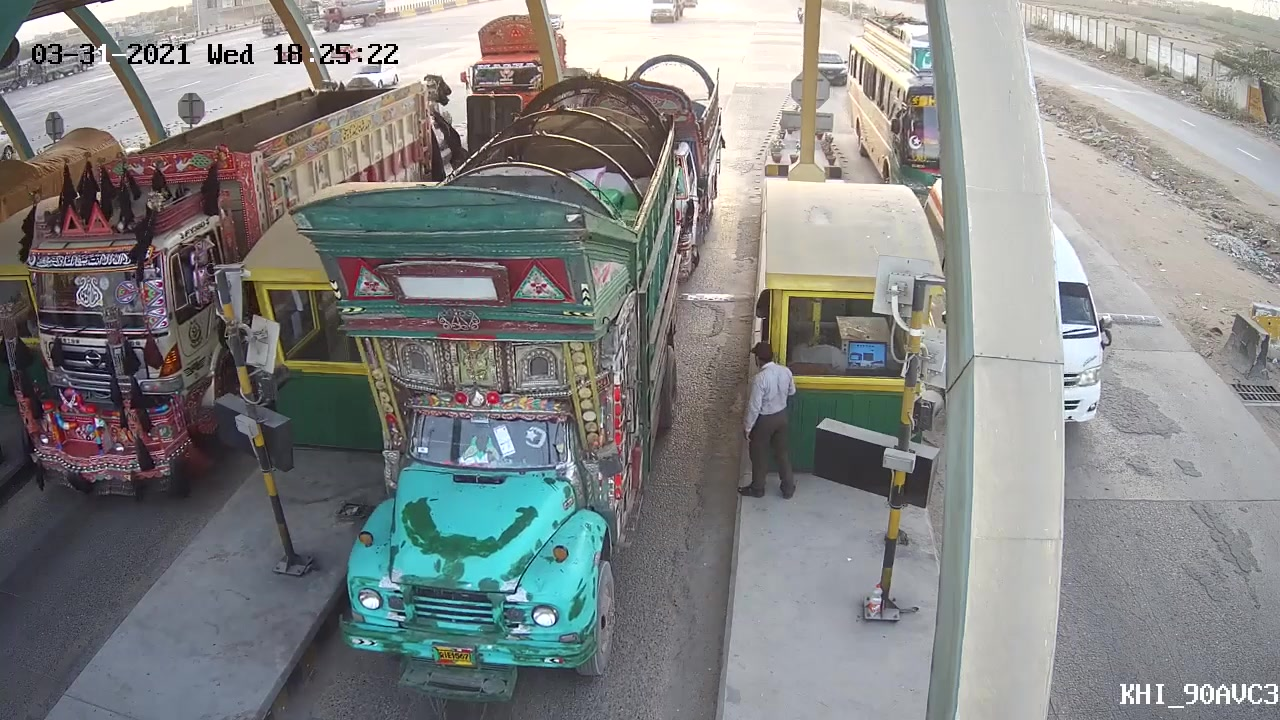F5: (280, 68, 692, 711)
